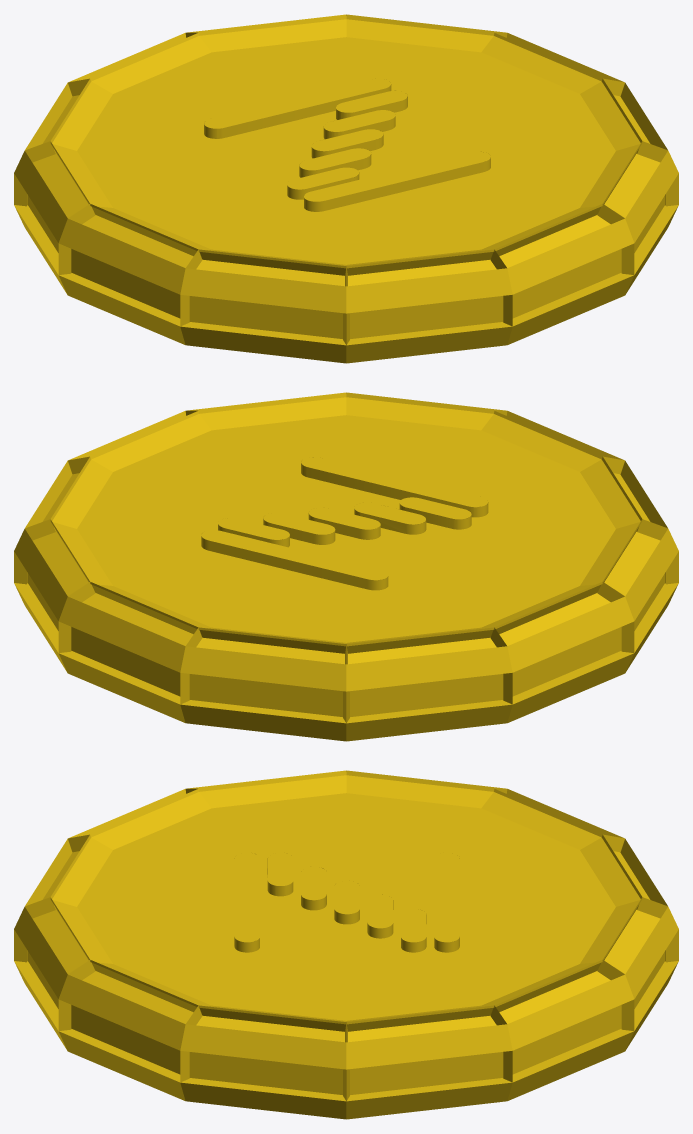
File: z_coin.glb
3 views of the same model, one above another, from view 1: azimuth 30°, elevation 25°; view 2: azimuth 150°, elevation 25°; view 3: azimuth 270°, elevation 25° (orthographic).
Visible parts, largest first — view 1: Cylinder; view 2: Cylinder; view 3: Cylinder.
Boxes of the visible parts, <box> form: Cylinder: <box>14,14,678,363</box>; Cylinder: <box>14,392,678,741</box>; Cylinder: <box>14,770,678,1119</box>.
Bounding box in the file's own units: 2 × 0.32 × 2.
